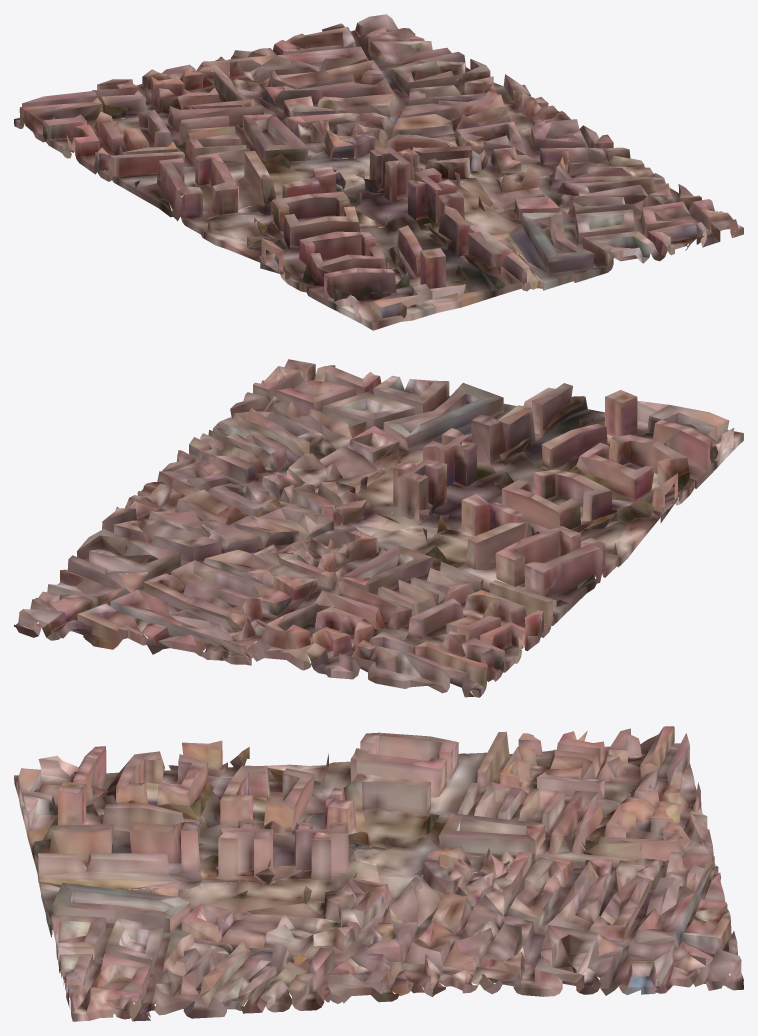
3 views of the same model, one above another, from view 1: azimuth 30°, elevation 25°; view 2: azimuth 150°, elevation 25°; view 3: azimuth 270°, elevation 25° (orthographic). The views are drawn at different scales.
Parts seen in each view (by area): view 1: Mesh_0; view 2: Mesh_0; view 3: Mesh_0.
Boxes of the visible parts, x1,y1,x2,y2 form: Mesh_0: (14, 14, 743, 330); Mesh_0: (14, 359, 743, 697); Mesh_0: (14, 726, 743, 1021).
Bounding box in the file's own units: 533 × 69.48 × 659.
Materials: 2 (2 with a texture image).
